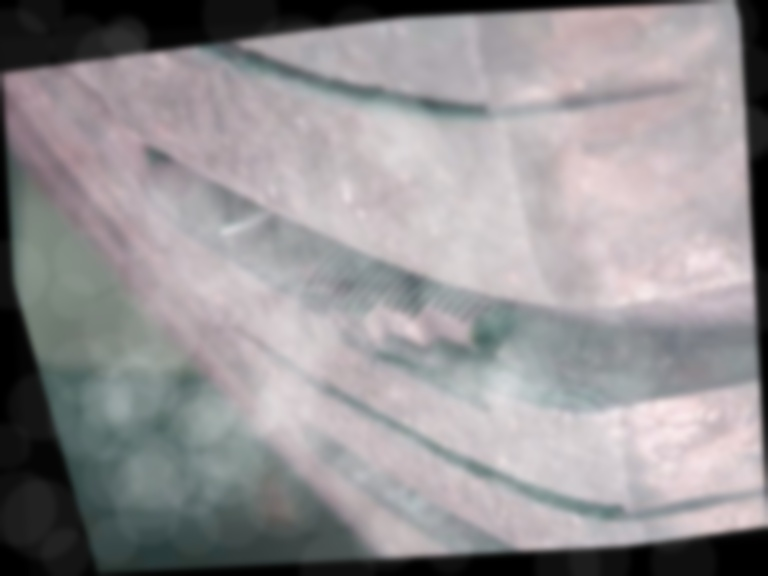temoin:80: (268, 211, 562, 449)
